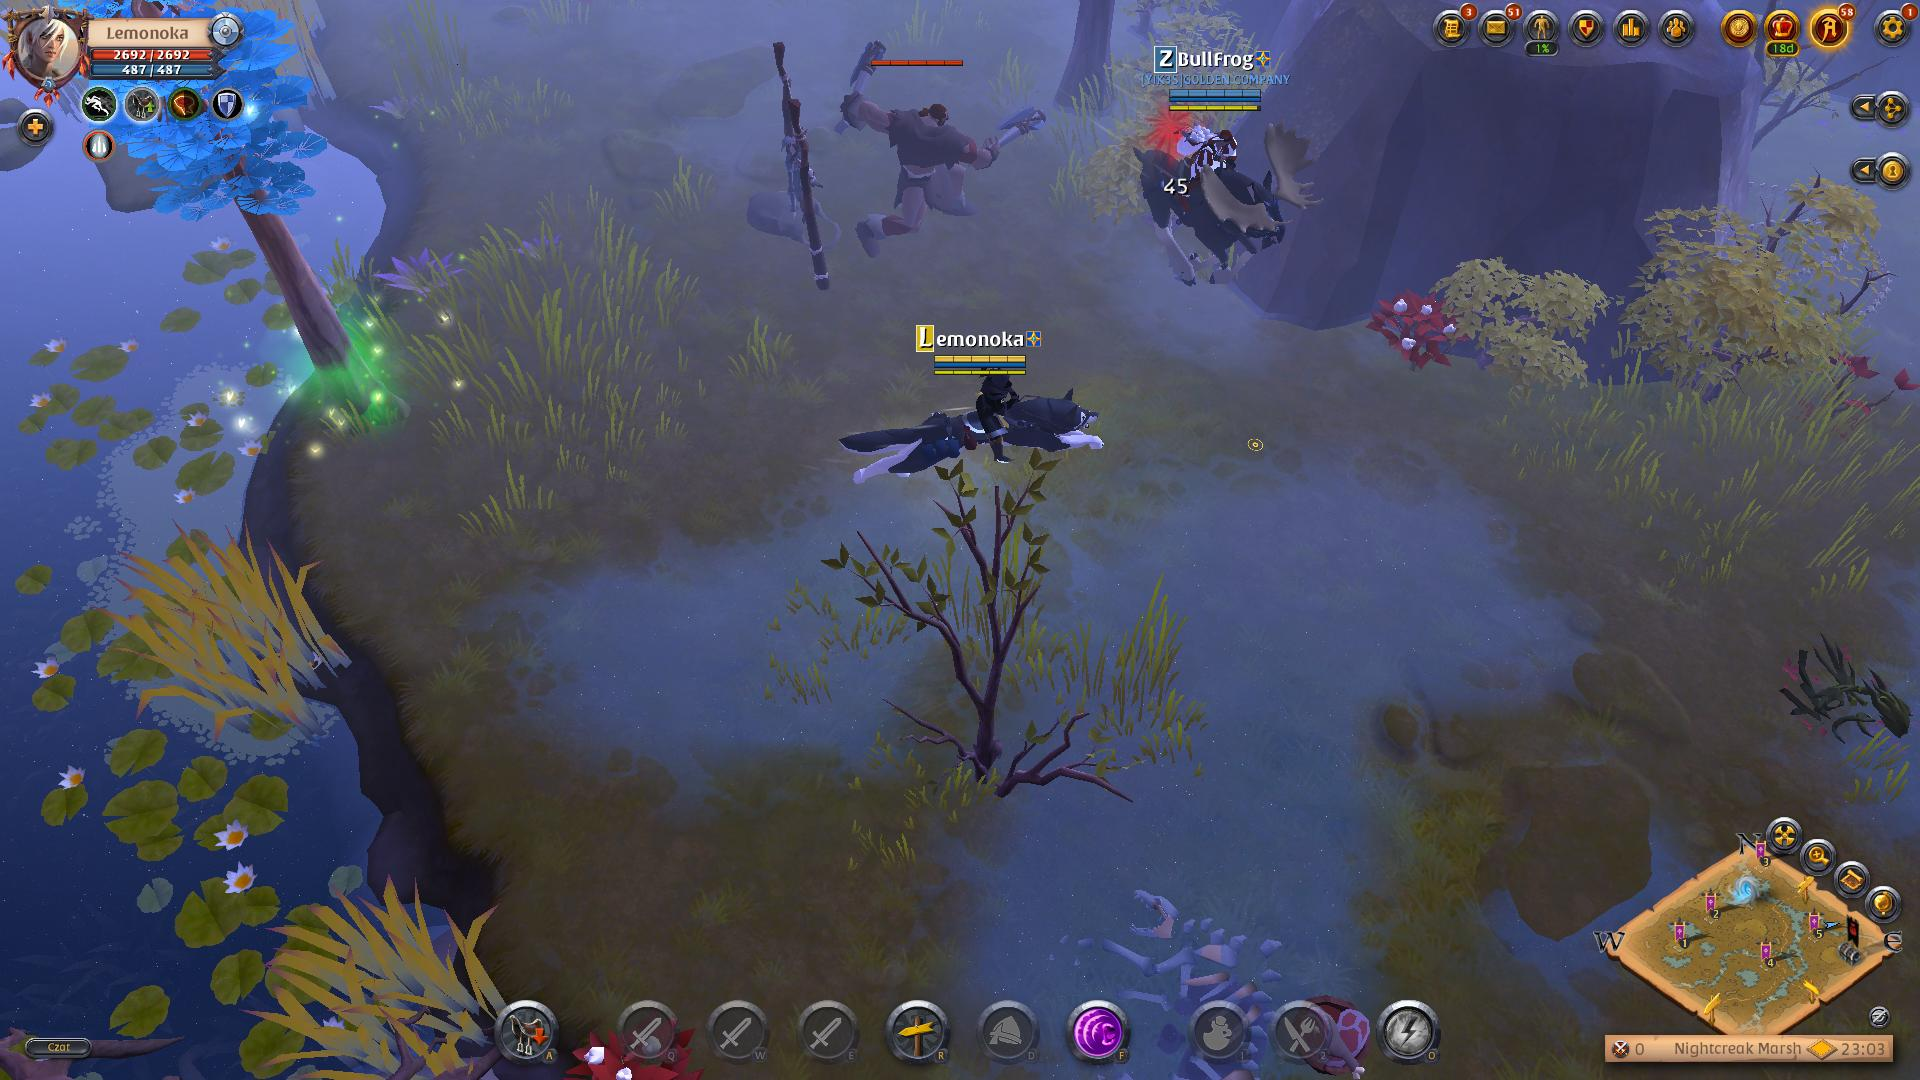fiber tier 5: (1365, 286, 1464, 373)
